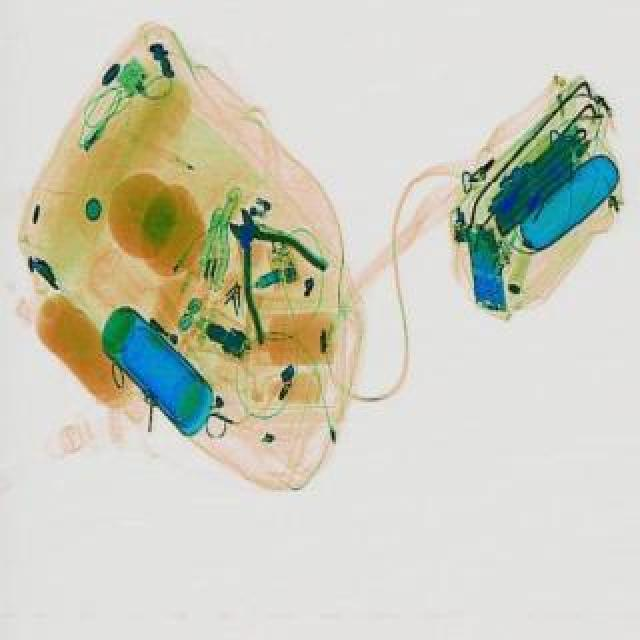wrench: (184, 188, 346, 344)
